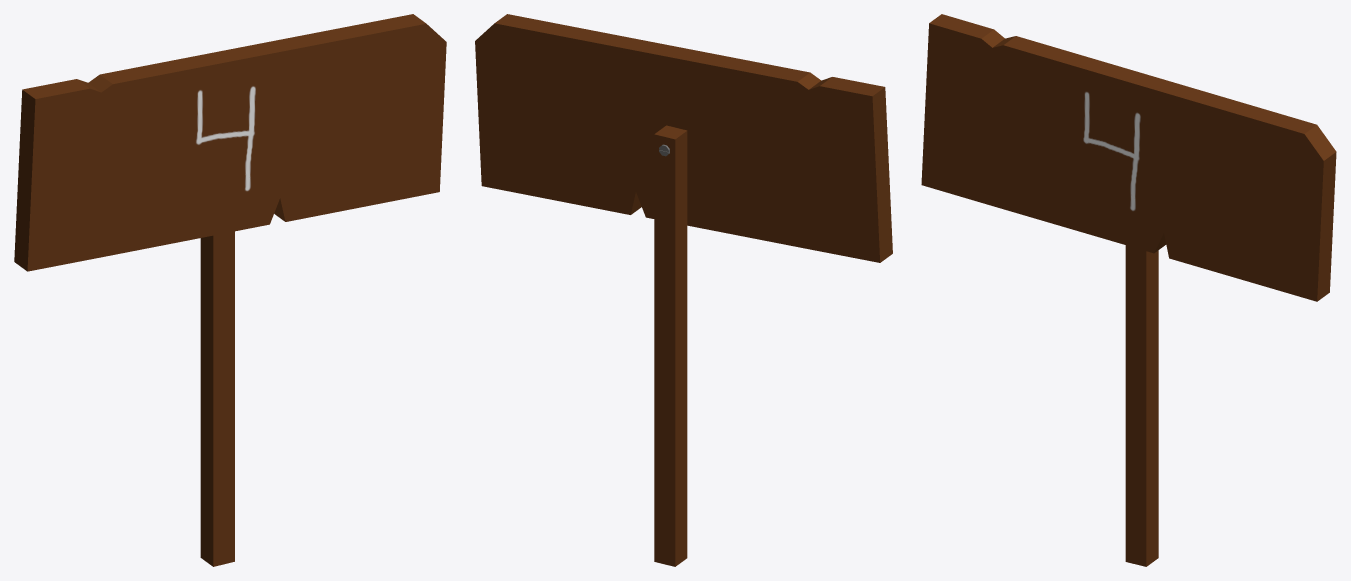
The model's file is sign1.glb.
3 renders of one model, left to right at view 1: azimuth 30°, elevation 25°; view 2: azimuth 150°, elevation 25°; view 3: azimuth 330°, elevation 25°, orthographic. The views are drawn at different scales.
Visible parts, largest first — view 1: Sign 1; view 2: Sign 1; view 3: Sign 1.
Boxes of the visible parts, x1,y1,x2,y2 form: Sign 1: (14, 14, 446, 566); Sign 1: (475, 14, 892, 566); Sign 1: (921, 14, 1336, 566).
Size of the model in its own units: 2.03 by 2.43 by 0.228.
Materials: 2 (1 with a texture image).
